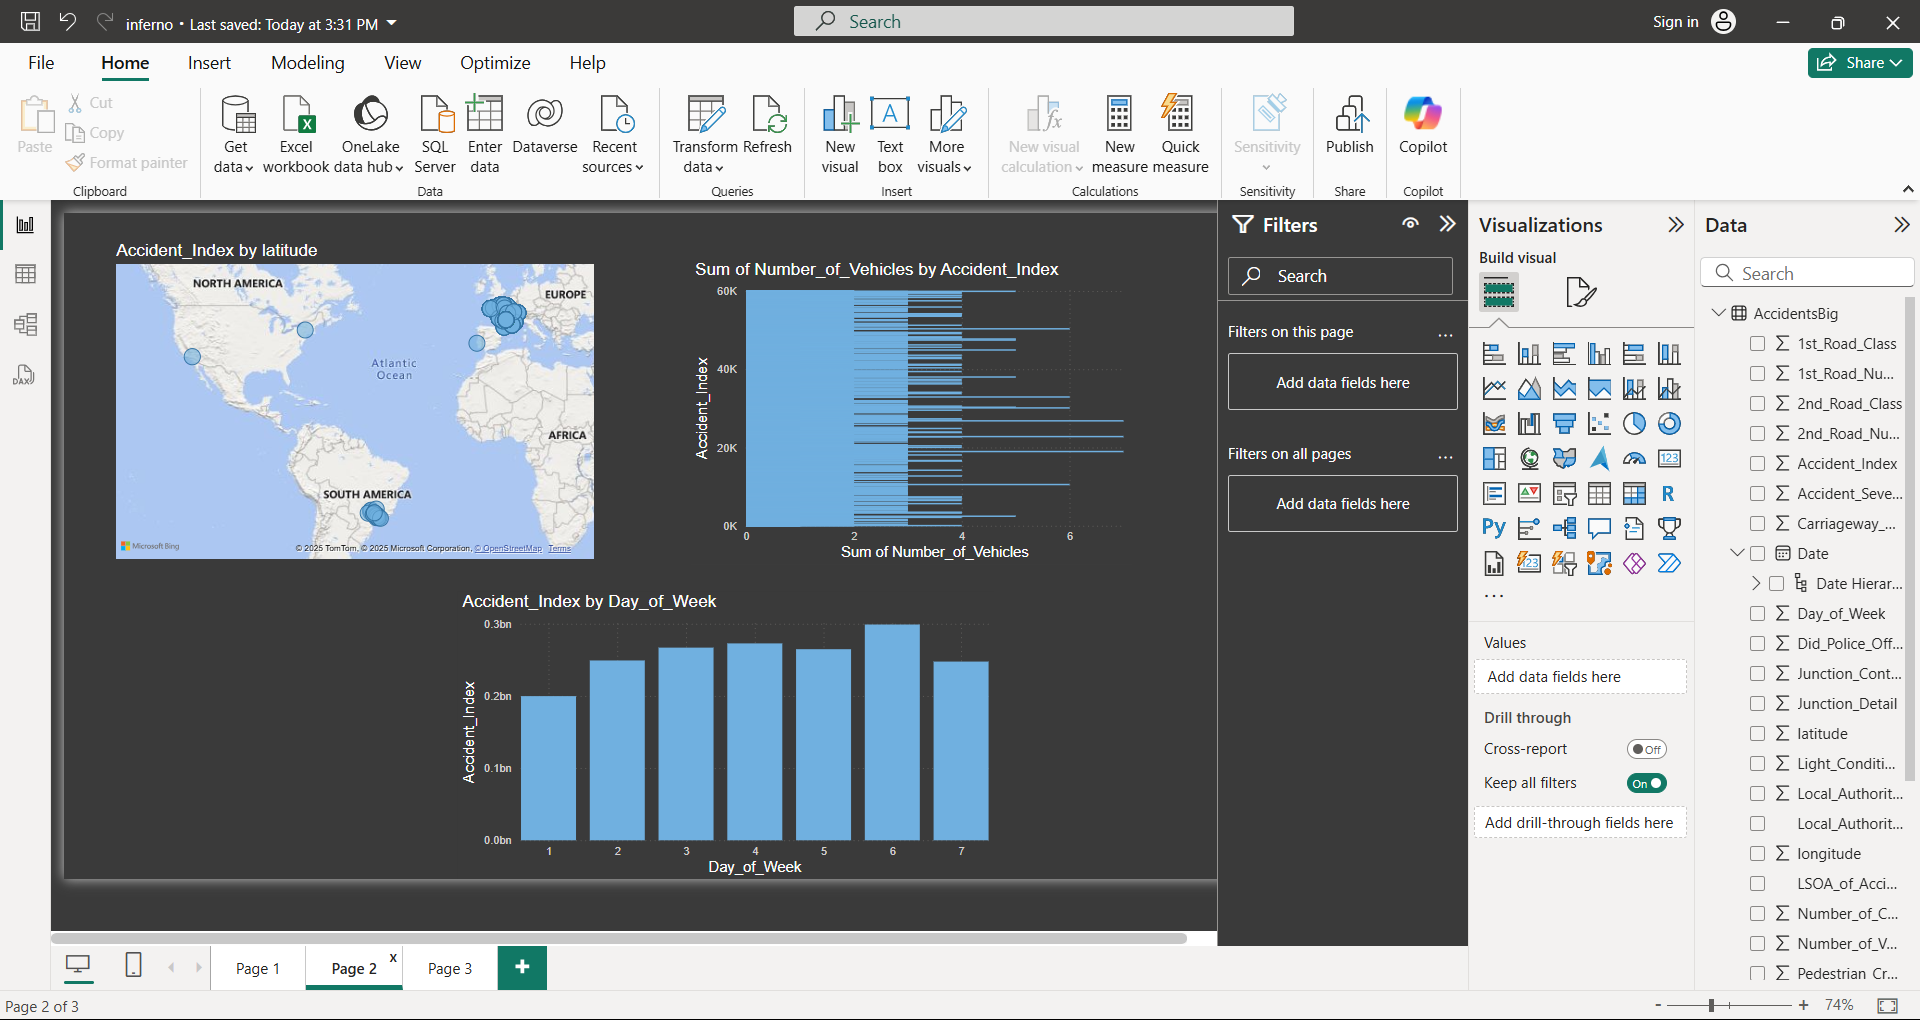

The page's visual inventory and layout, read from the dashboard file:
{"tool":"powerbi","page":{"name":"Page 2","canvas":[1280,720],"ordinal":1},"visuals":[{"type":"columnChart","fields":{"Y":["Sum(AccidentsBig.Accident_Index)"],"Category":["AccidentsBig.Day_of_Week"]},"box":[425.4,408.9,579.1,311.5],"z":0},{"type":"map","fields":{"Category":["AccidentsBig.latitude","AccidentsBig.longitude"],"Size":["Sum(AccidentsBig.Accident_Index)"]},"box":[50.8,30.2,526.9,349.9],"z":1000},{"type":"barChart","fields":{"Y":["Sum(AccidentsBig.Number_of_Vehicles)"],"Category":["AccidentsBig.Accident_Index"]},"box":[676.5,49.4,477.5,330.7],"z":2000}]}

Visuals, with their boxes on the page's 1280x720 design canvas (x1, y1, x2, y2). These are canvas units, not pixel positions in the 1920x1020 screenshot, which may show the page scaled, cropped or inside an application window:
columnChart - Sum(AccidentsBig.Accident_Index) x AccidentsBig.Day_of_Week: bbox=(425, 409, 1004, 720)
map - AccidentsBig.latitude x AccidentsBig.longitude: bbox=(51, 30, 578, 380)
barChart - Sum(AccidentsBig.Number_of_Vehicles) x AccidentsBig.Accident_Index: bbox=(676, 49, 1154, 380)
